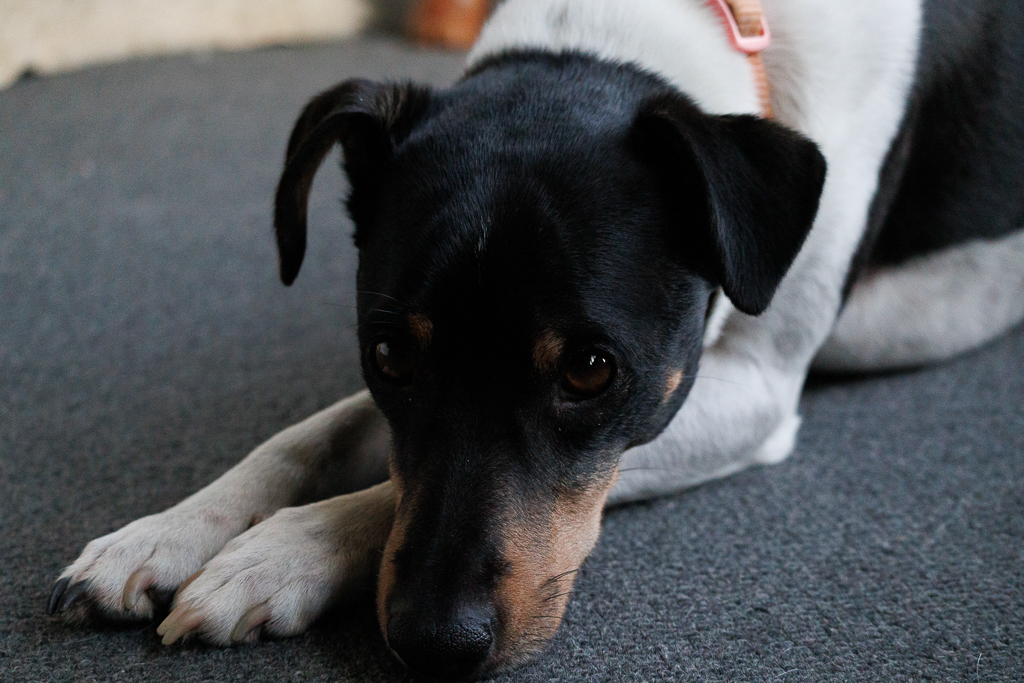Dog: (43, 0, 1023, 683)
